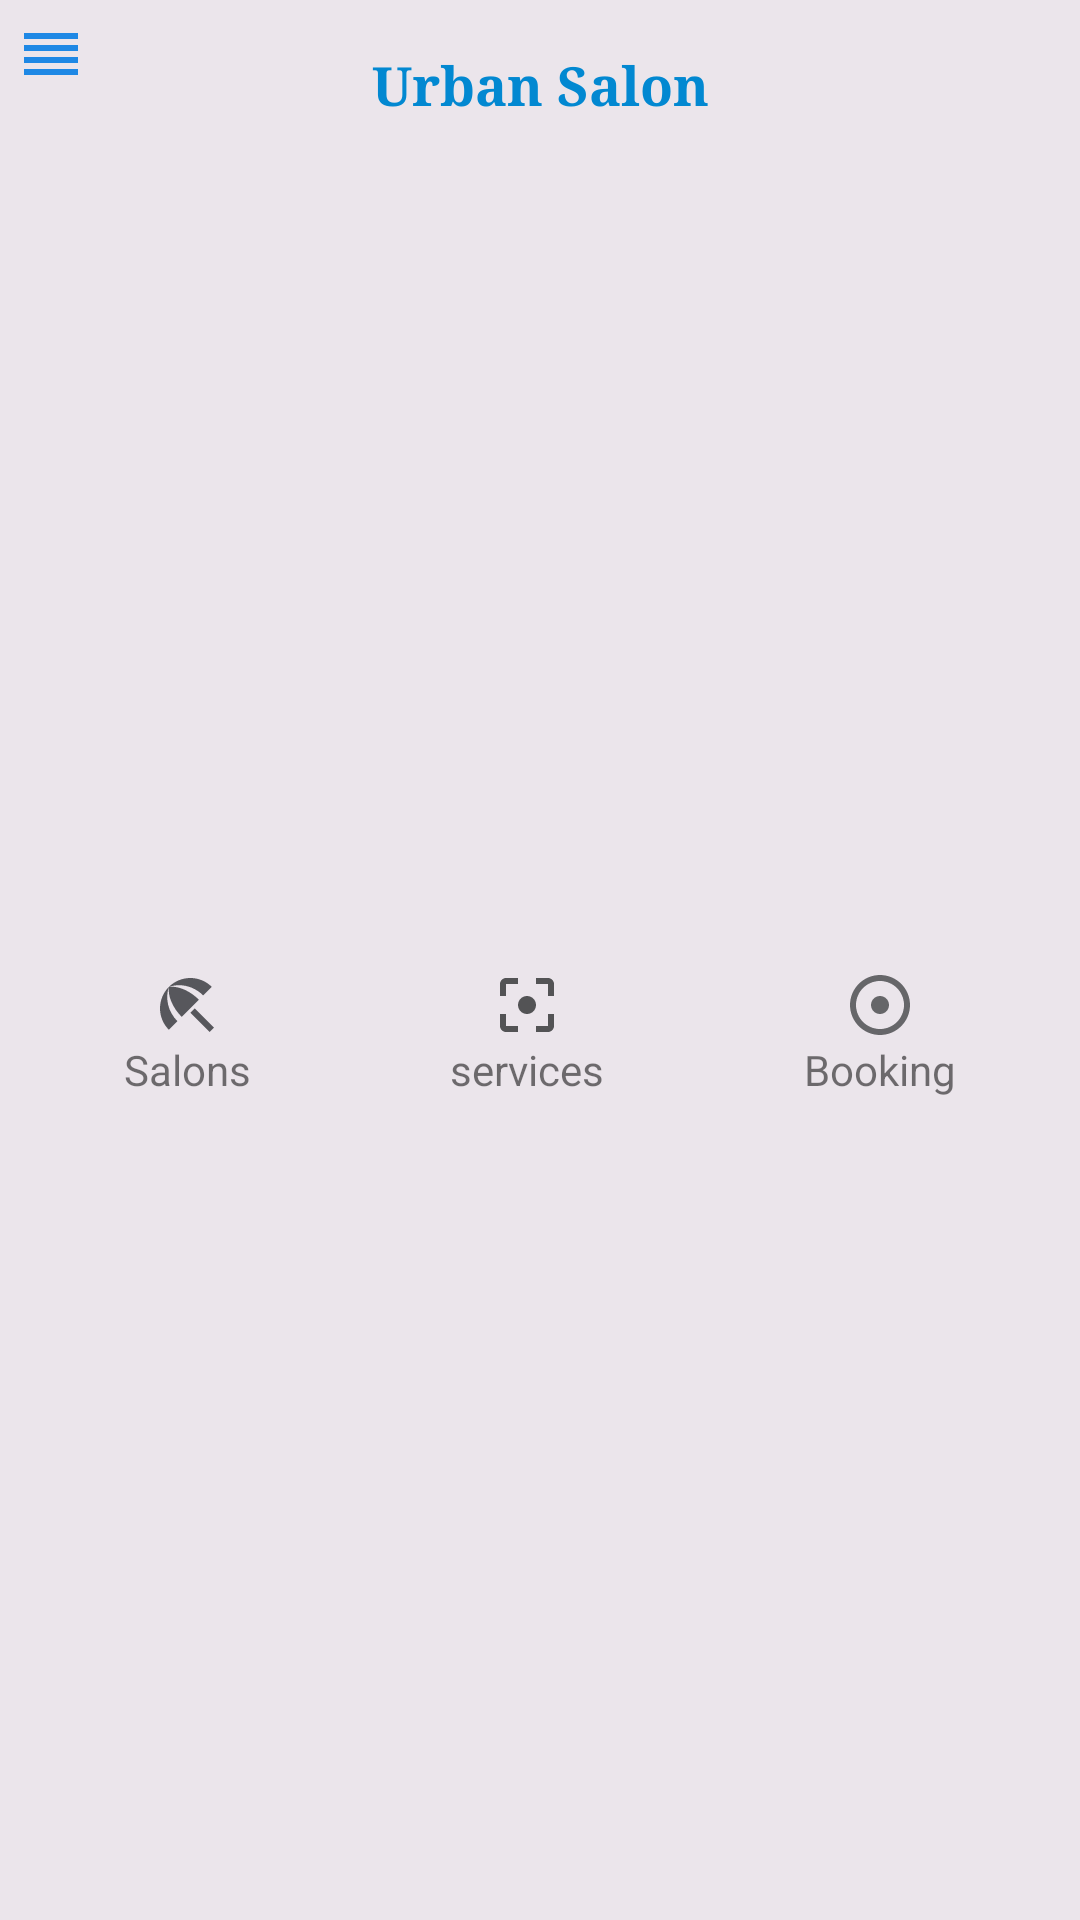

Where icons sit on this 1080 × 1920 app screen, as box=[x1, y1, x2, y2]:
adjust: box=[850, 975, 910, 1035]
beach access: box=[160, 978, 214, 1032]
filter center focus: box=[500, 978, 554, 1032]
options: box=[24, 33, 78, 75]
